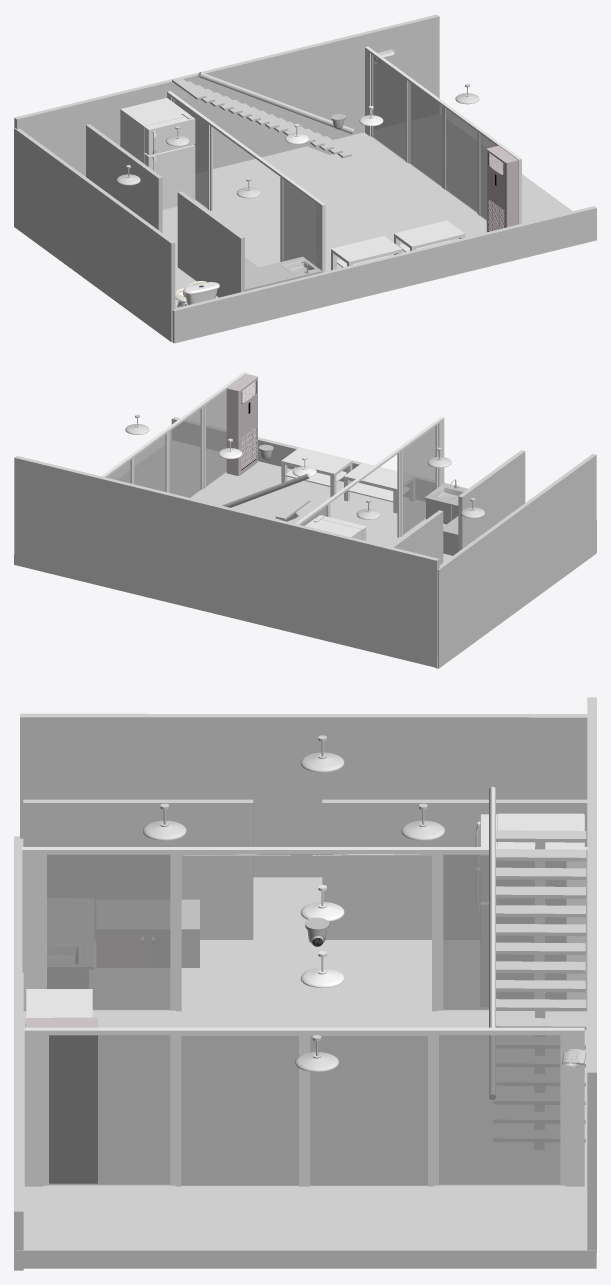
The model's file is firstFloor.glb.
The picture shows the model from 3 angles, top to bottom: view 1: azimuth 30°, elevation 25°; view 2: azimuth 150°, elevation 25°; view 3: azimuth 270°, elevation 25°; orthographic projection. The views are drawn at different scales.
Parts seen in each view (by area): view 1: Cube.005, Cube.002, Cube.003, Cube.001, Layer0_001, Layer0_001.001, Material-material, Cube.021, Cube.022, Cube.040, body, Table_Lp.003 (+3 smaller); view 2: Cube.002, Cube.003, Cube.005, Layer0_001, Layer0_001.001, Cube.021, Cube.040, Cube.001, Table_Lp.003, Table_Lp.001, Cube.022, body (+3 smaller); view 3: Cube.005, Layer0_001, Cube.003, Layer0_001.001, Cube.021, Cube.022, Cube.040, Material-material, Cube.002, body, Cube.001, body.001 (+27 smaller).
Boxes of the visible parts, x1,y1,x2,y2 form: Cube.005: (162,114,572,341); Cube.002: (14,14,439,176); Cube.003: (14,128,175,342); Cube.001: (172,206,596,343); Layer0_001: (365,46,521,224); Layer0_001.001: (167,91,325,272); Material-material: (120,98,195,209); Cube.021: (177,191,244,297); Cube.022: (86,124,162,232); Cube.040: (486,145,518,231); body: (245,256,322,291); Table_Lp.003: (331,236,402,270); Cube.002: (14,456,439,659); Cube.003: (435,454,596,668); Cube.005: (14,440,452,667); Layer0_001: (101,372,246,497); Layer0_001.001: (295,417,444,537); Cube.021: (458,450,525,551); Cube.040: (226,374,257,475); Cube.001: (171,417,596,551); Table_Lp.003: (344,463,414,513); Table_Lp.001: (281,447,352,497); Cube.022: (390,510,443,565); body: (424,479,467,524); Cube.005: (16,877,596,1268); Layer0_001: (24,1027,584,1186); Cube.003: (20,713,587,877); Layer0_001.001: (22,847,587,1011); Cube.021: (23,799,253,939); Cube.022: (322,799,587,939); Cube.040: (25,1017,97,1183); Material-material: (475,813,584,1006); Cube.002: (587,697,596,1252); body: (47,898,94,988); Cube.001: (14,836,23,1270); body.001: (96,899,199,931).
Size of the model in its own units: 27.9 by 8.58 by 18.24.
Materials: 28 (1 with a texture image).
